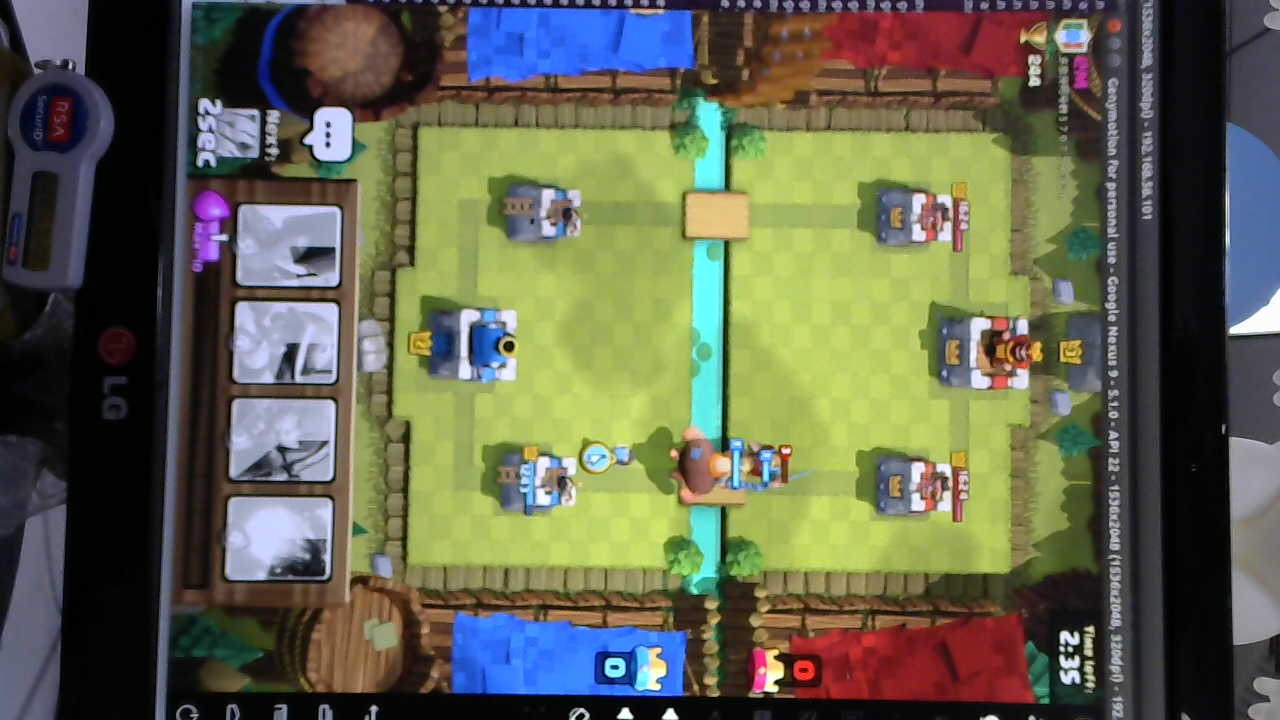bomb: (574, 438, 637, 473)
